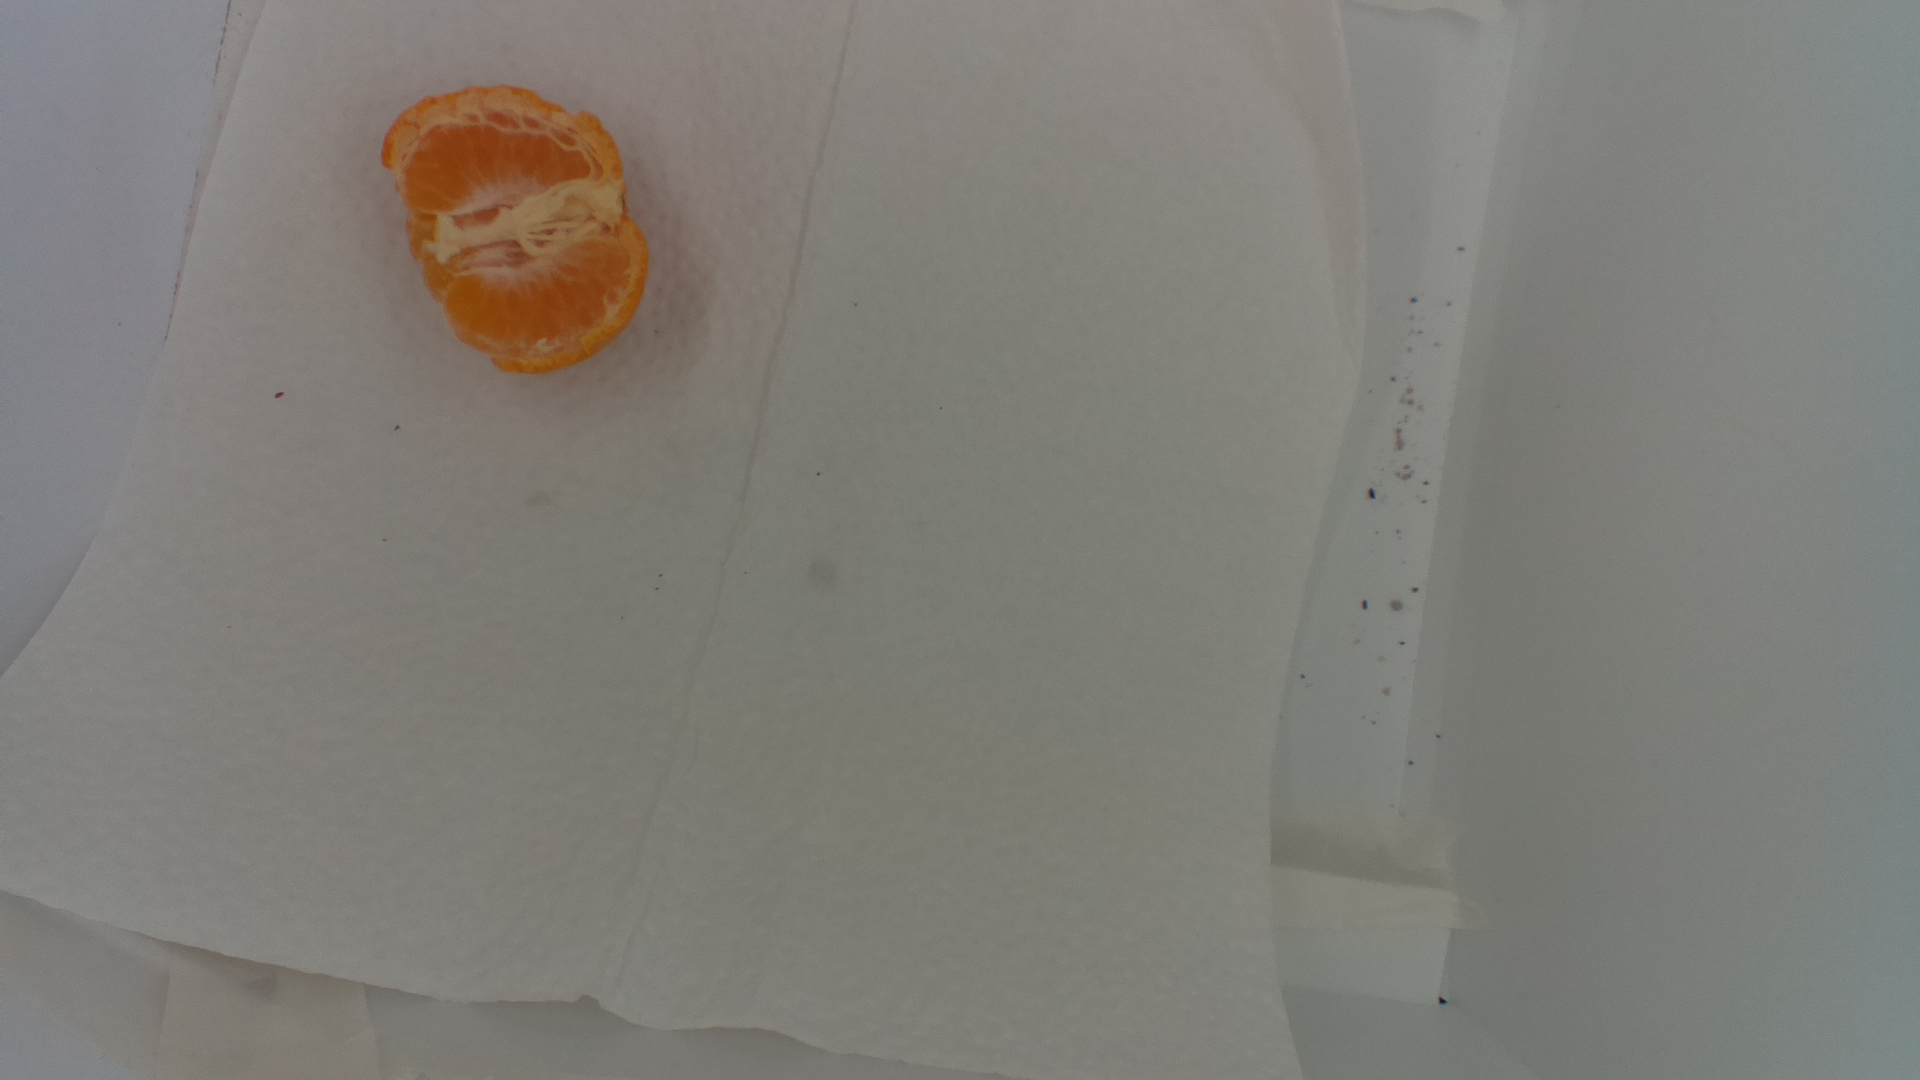fruit: (375, 83, 658, 386)
